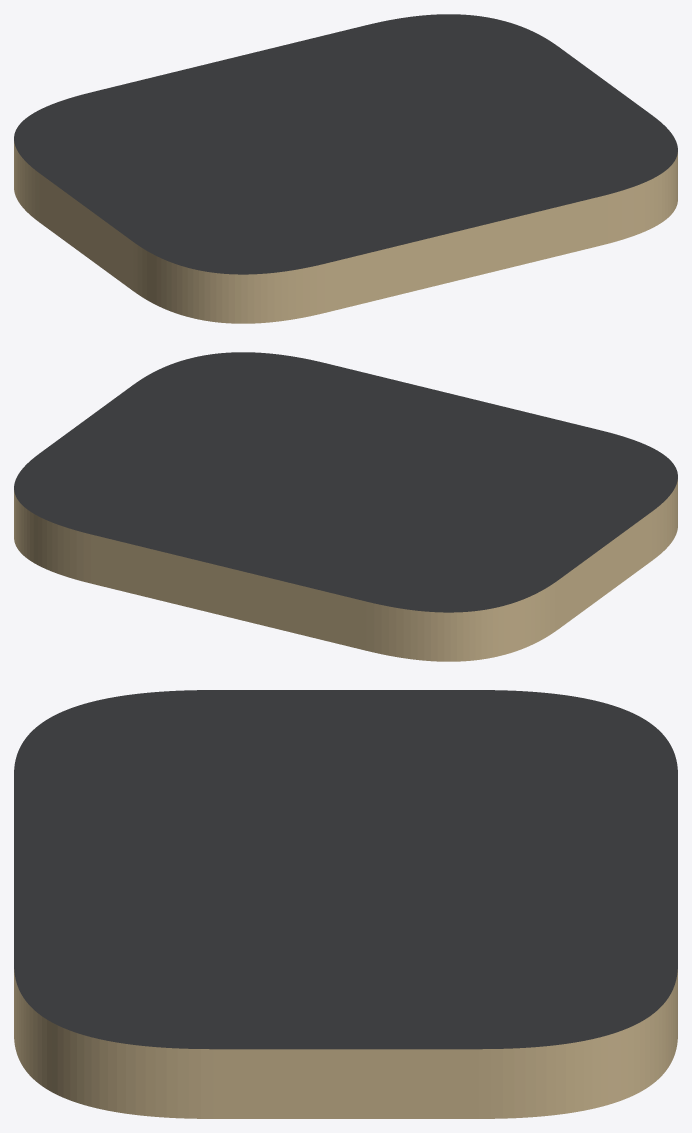
Rendered from stage.glb.
3 views of the same model, one above another, from view 1: azimuth 30°, elevation 25°; view 2: azimuth 150°, elevation 25°; view 3: azimuth 270°, elevation 25° (orthographic). The views are drawn at different scales.
Bounding box in the file's own units: 3.2 × 0.29 × 2.5.
